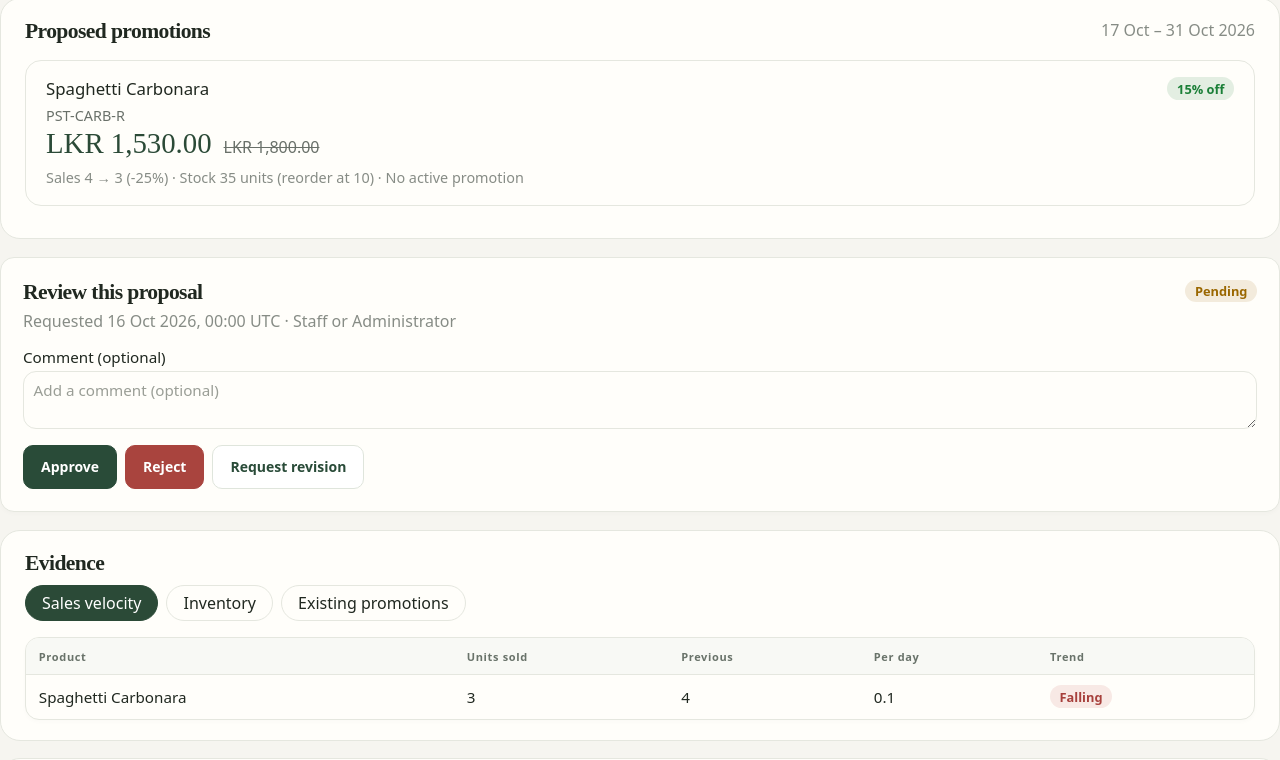
Test: AgentWorkflowDetailPage › rejecting › asks for confirmation before rejecting, then persists the comment
The width and height of the screenshot is (1280, 760).
(page scrolled)
Type "Not this month." into the text box labelled "Comment (optional)" at (640, 400), box x1=23 y1=371 x2=1257 y2=429
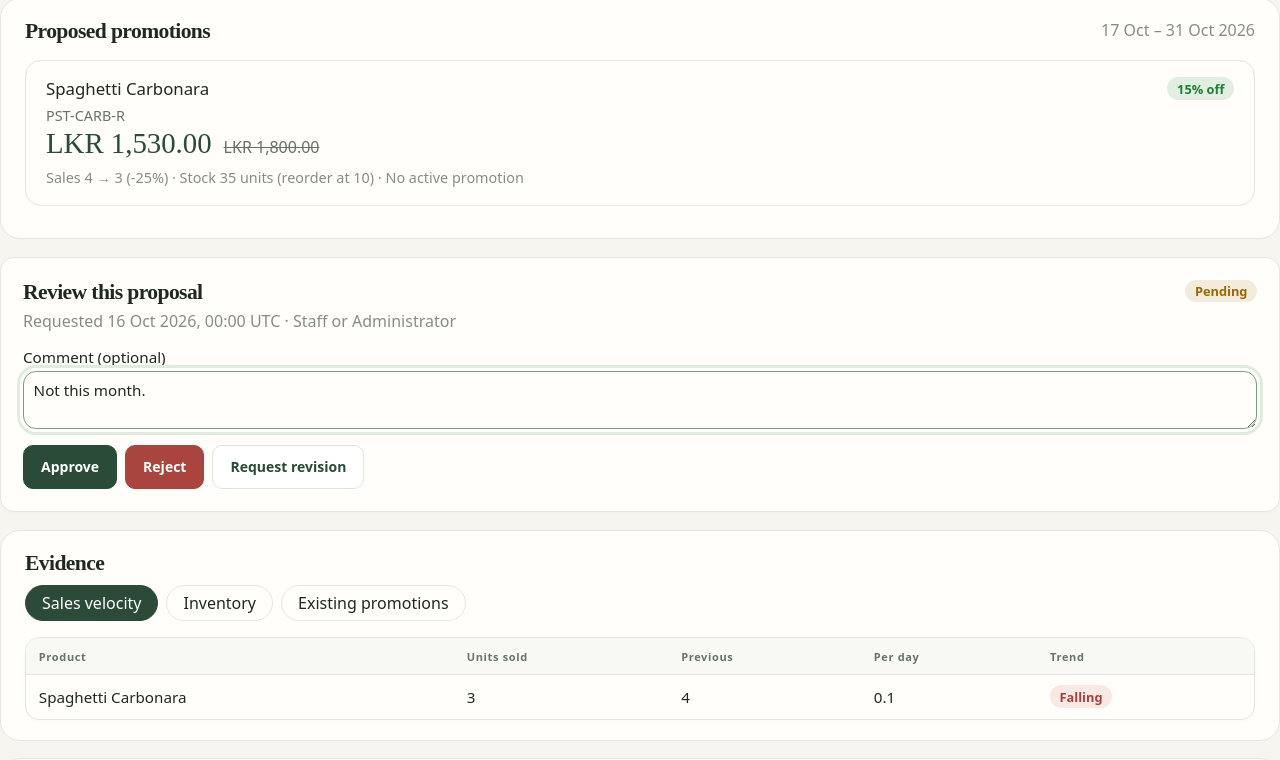
Click the button "Reject" at (165, 467), box x1=125 y1=445 x2=204 y2=489
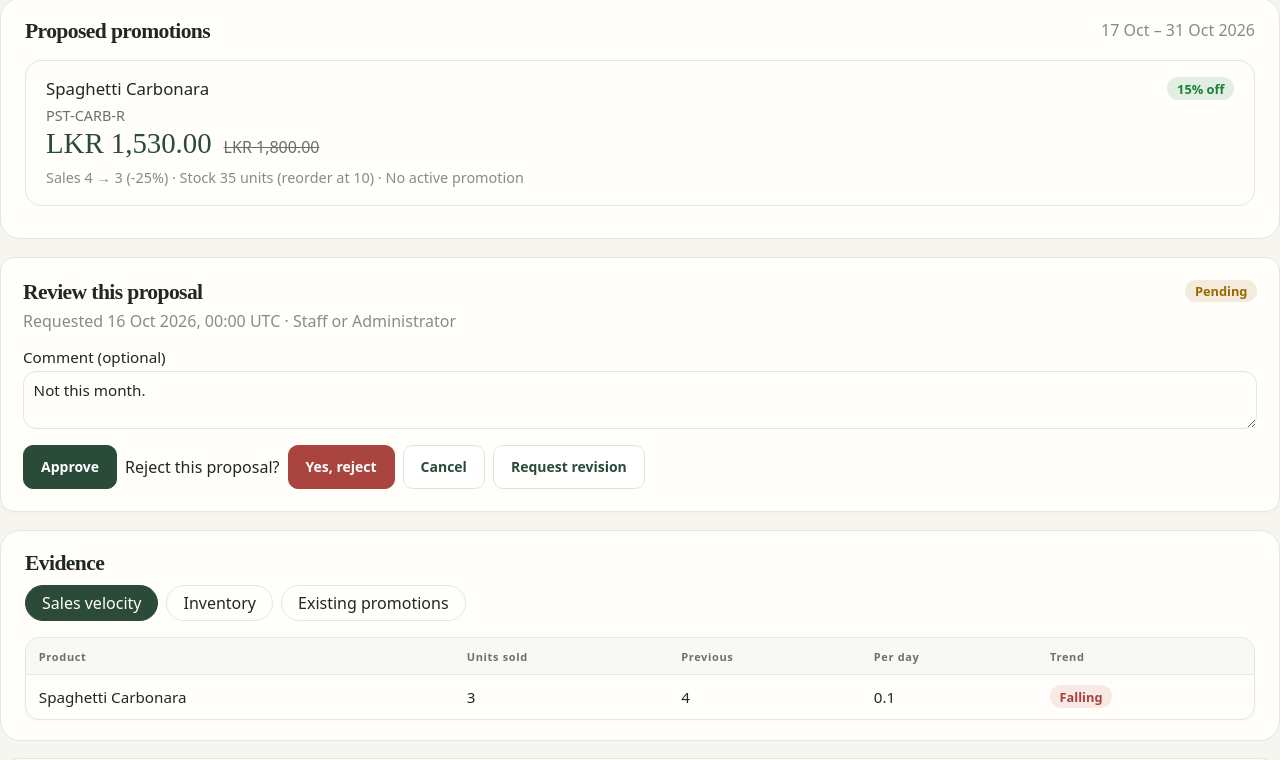
Click the button "Yes, reject" at (341, 467), box x1=288 y1=445 x2=395 y2=489
(page scrolled)
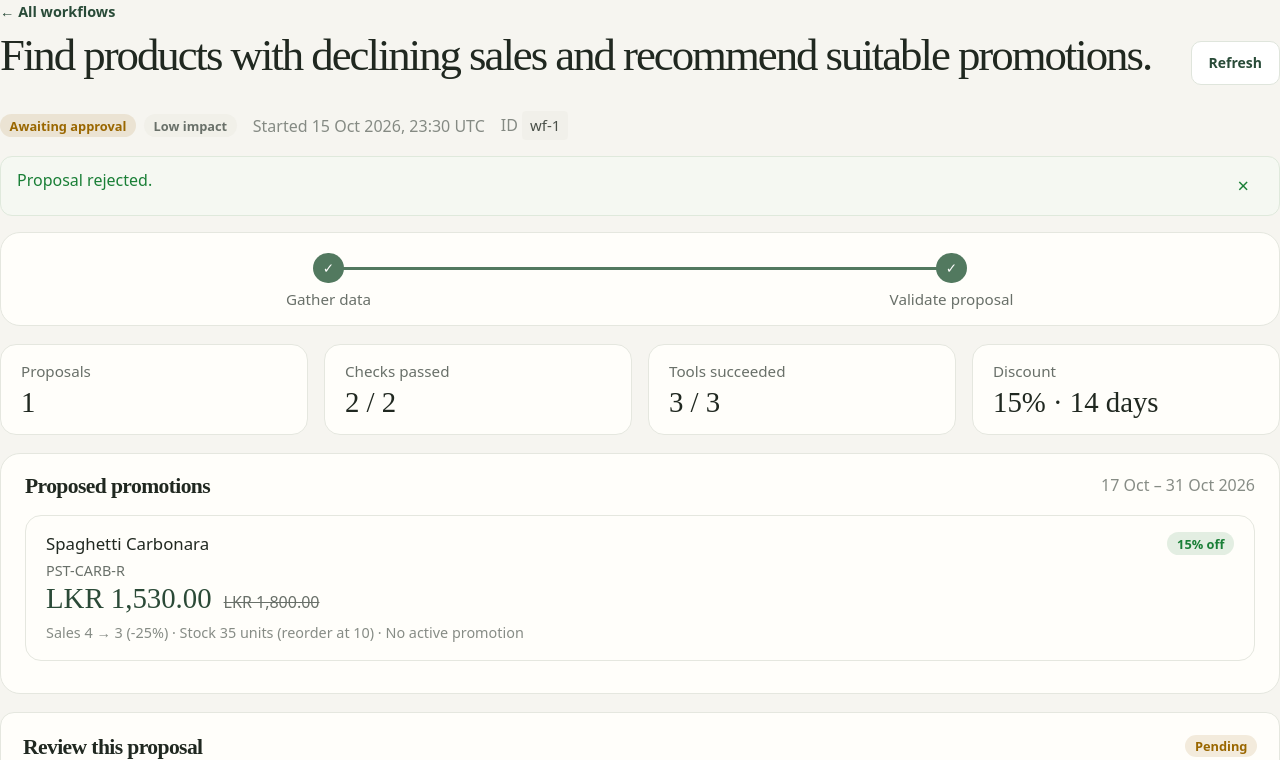
Now the text "Proposal rejected." is shown, box x1=17 y1=169 x2=152 y2=191
